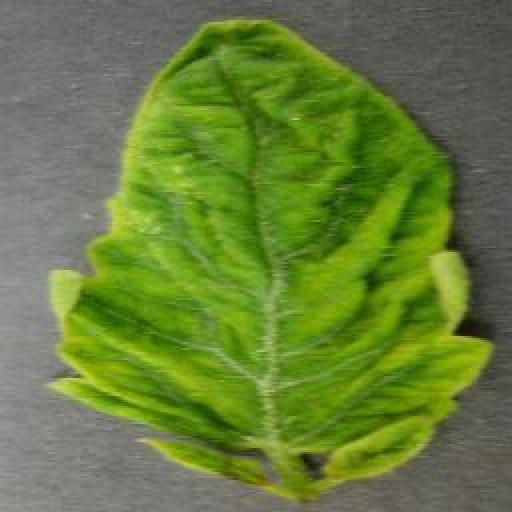disease_tomato: (50, 14, 499, 506)
